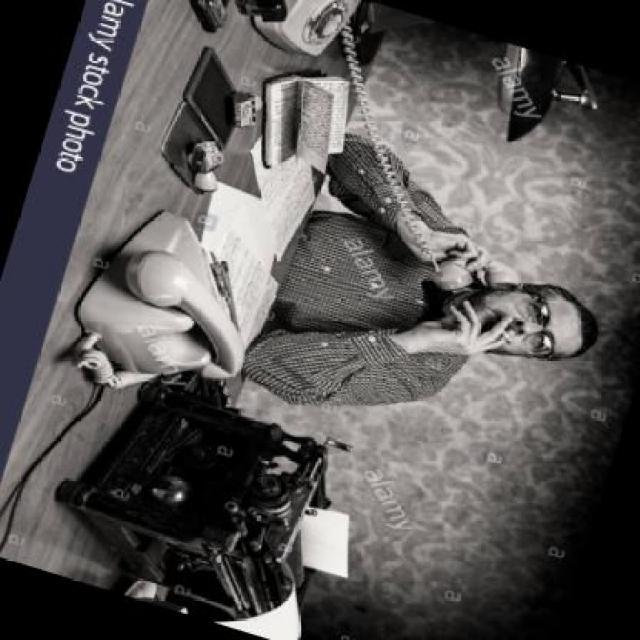smoke: (402, 296, 520, 358)
